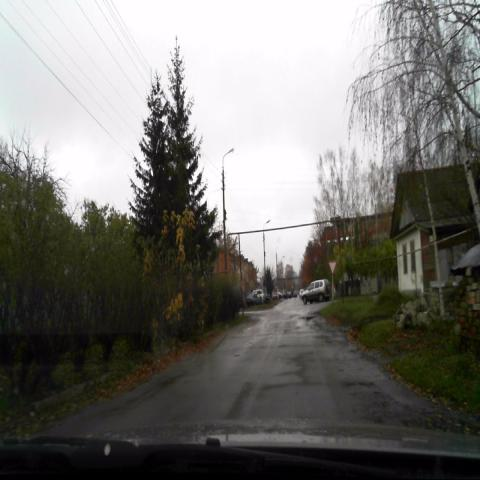2_4: (328, 261, 336, 274)
